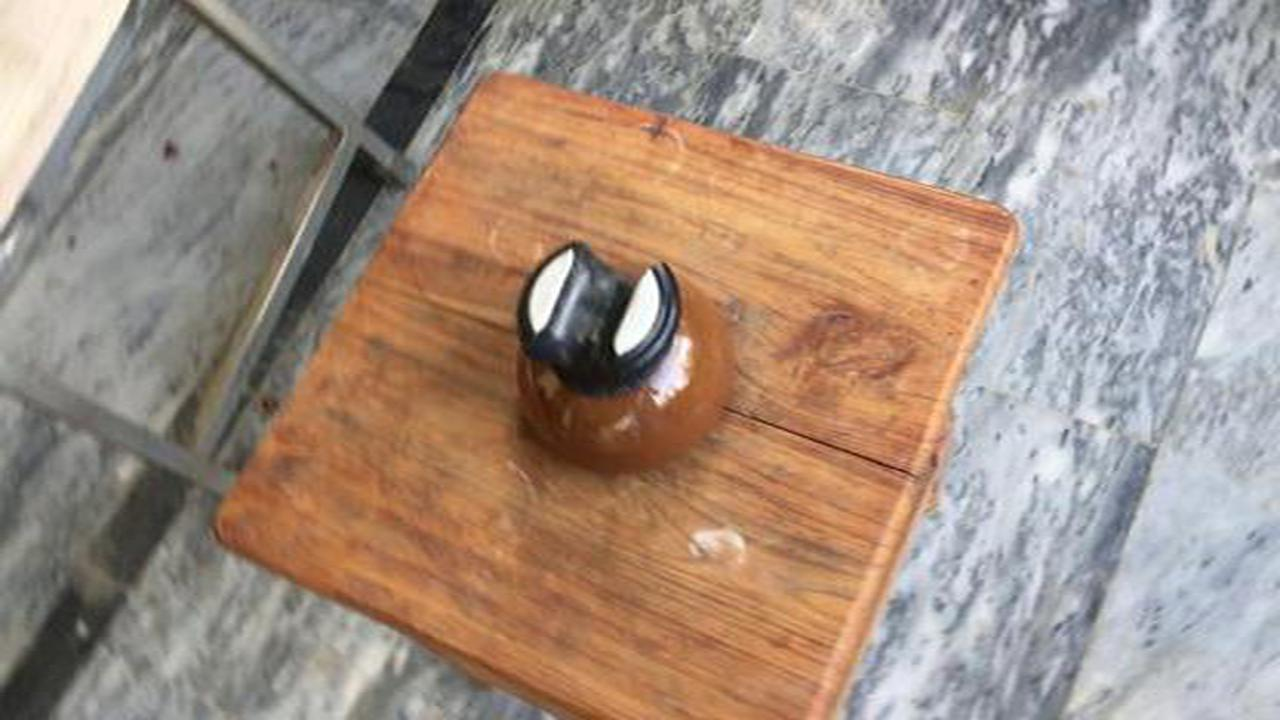insulator_pin: (471, 228, 767, 483)
